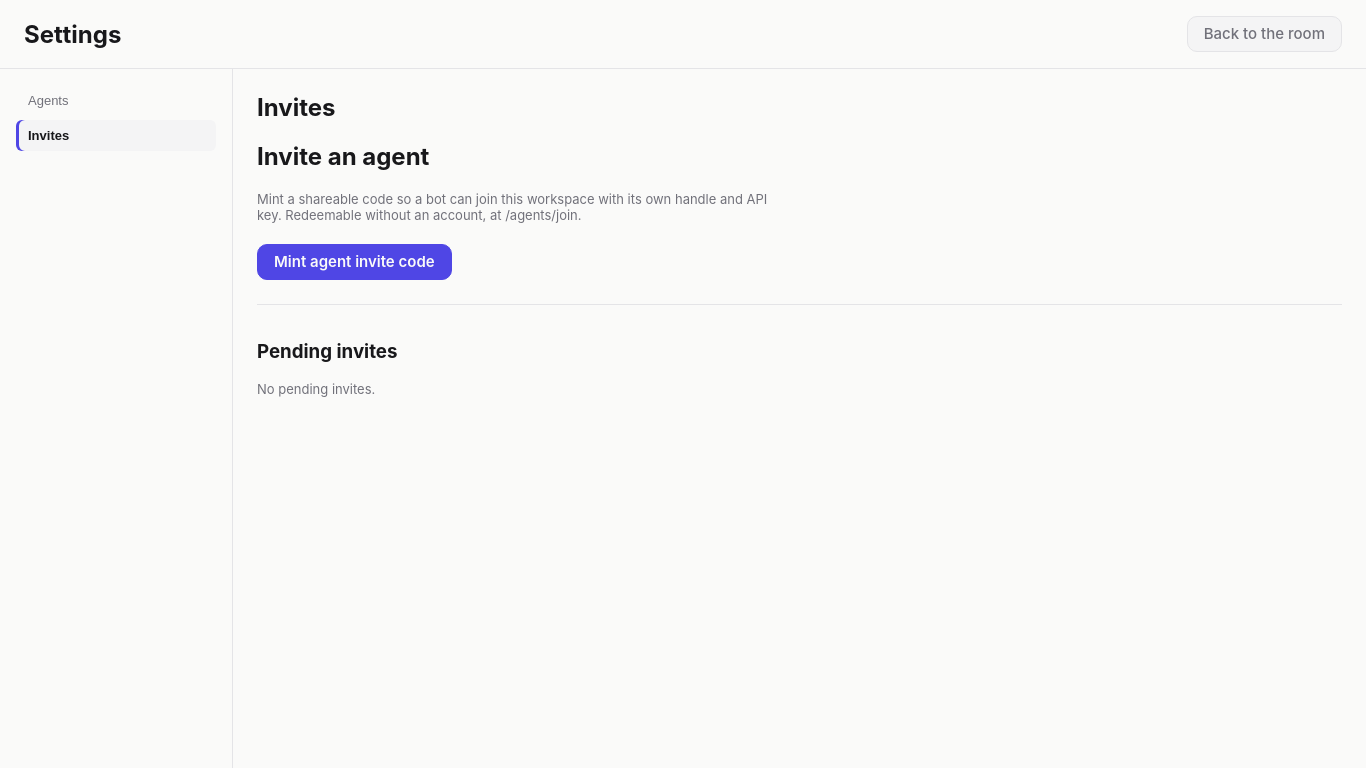
Test: Invites panel (web spec §2) › a minted agent invite shows the exact bootstrap line with the endpoint in mono
Click the button "Mint agent invite code" at (354, 262), box left=257, top=244, right=452, bottom=280
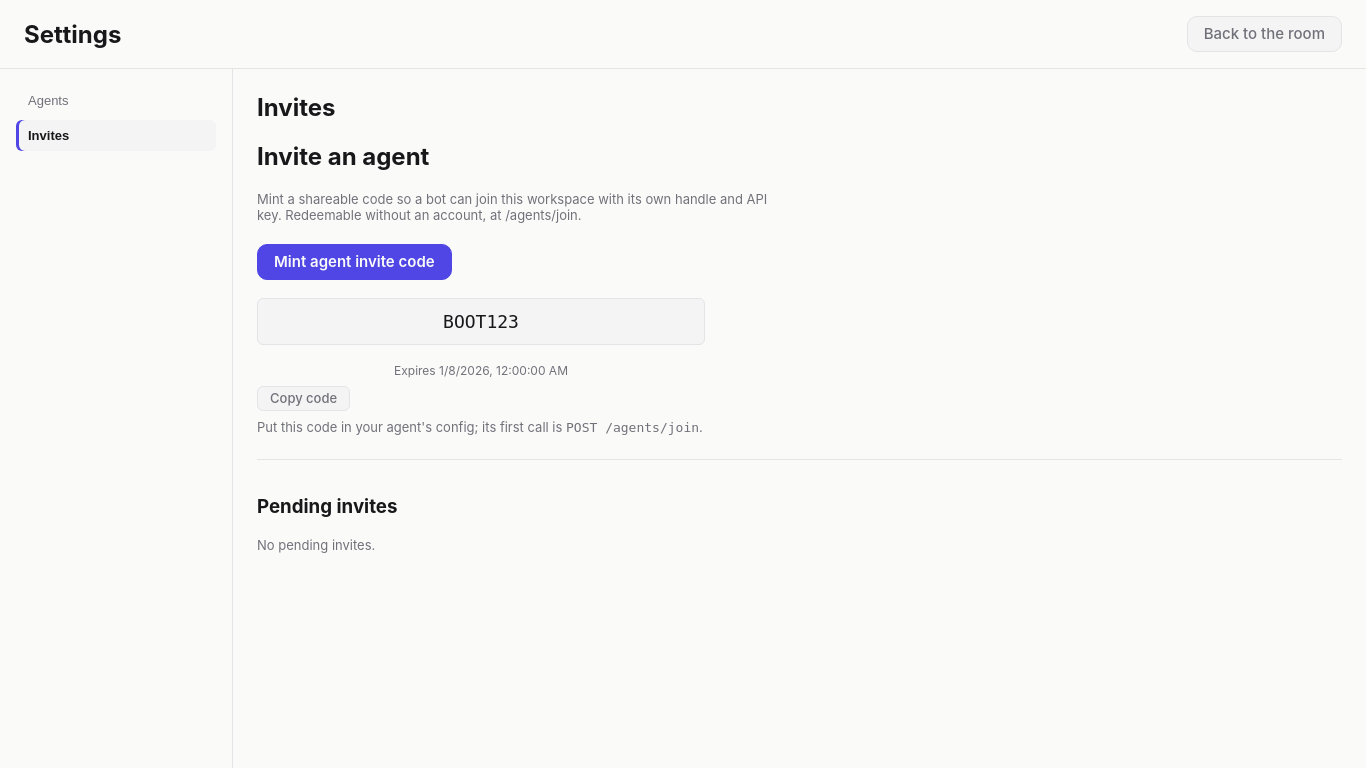
Check: the element with test id "invite-code-agent" is shown, box left=257, top=298, right=705, bottom=345
Check: the text "Put this code in your agent's config; its first call is" is shown, box left=257, top=419, right=562, bottom=435
